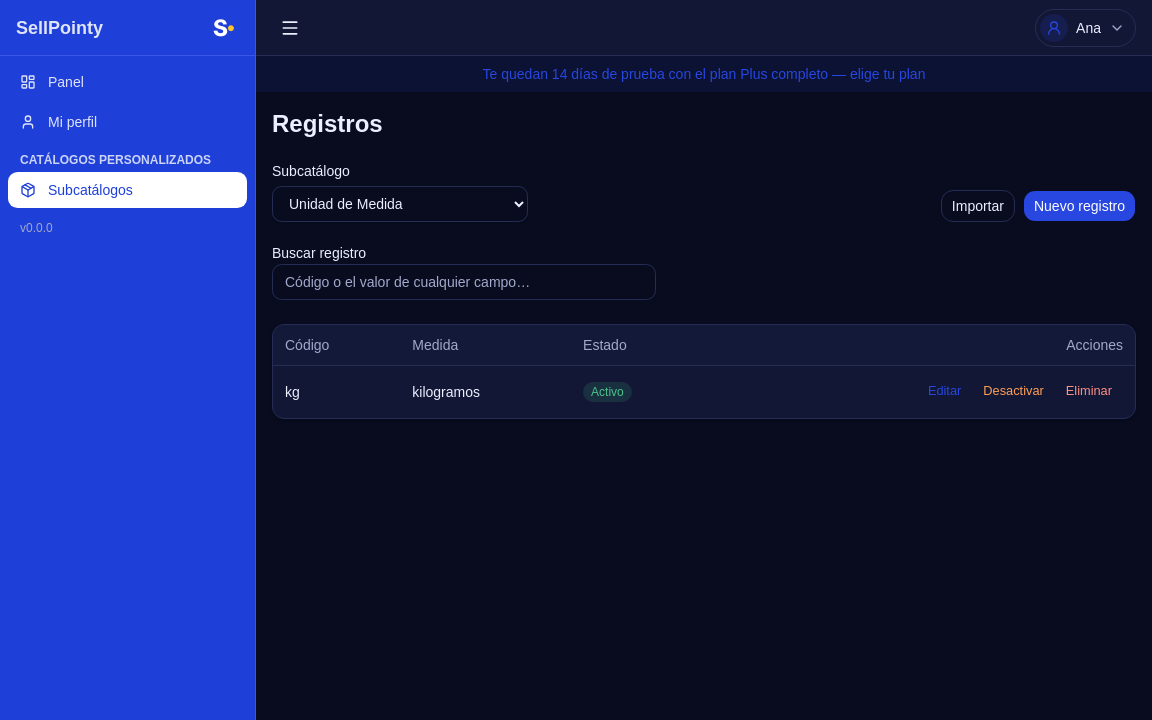
Scenario: Eliminar un registro (2026-08-25) › recién al confirmar se borra
Expected: the text "kg" is shown, [273, 365, 400, 418]
Click the button "Eliminar": (1089, 392) [1055, 378, 1123, 406]
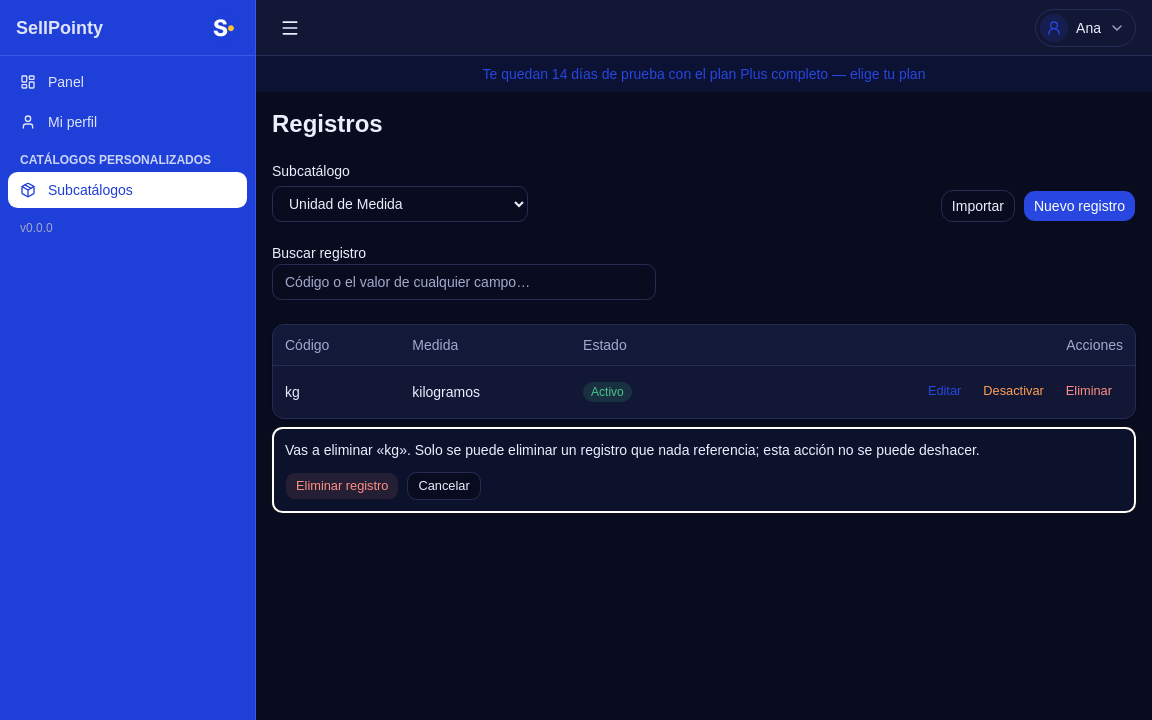
Click the button "Eliminar registro": (342, 486) [285, 472, 400, 500]
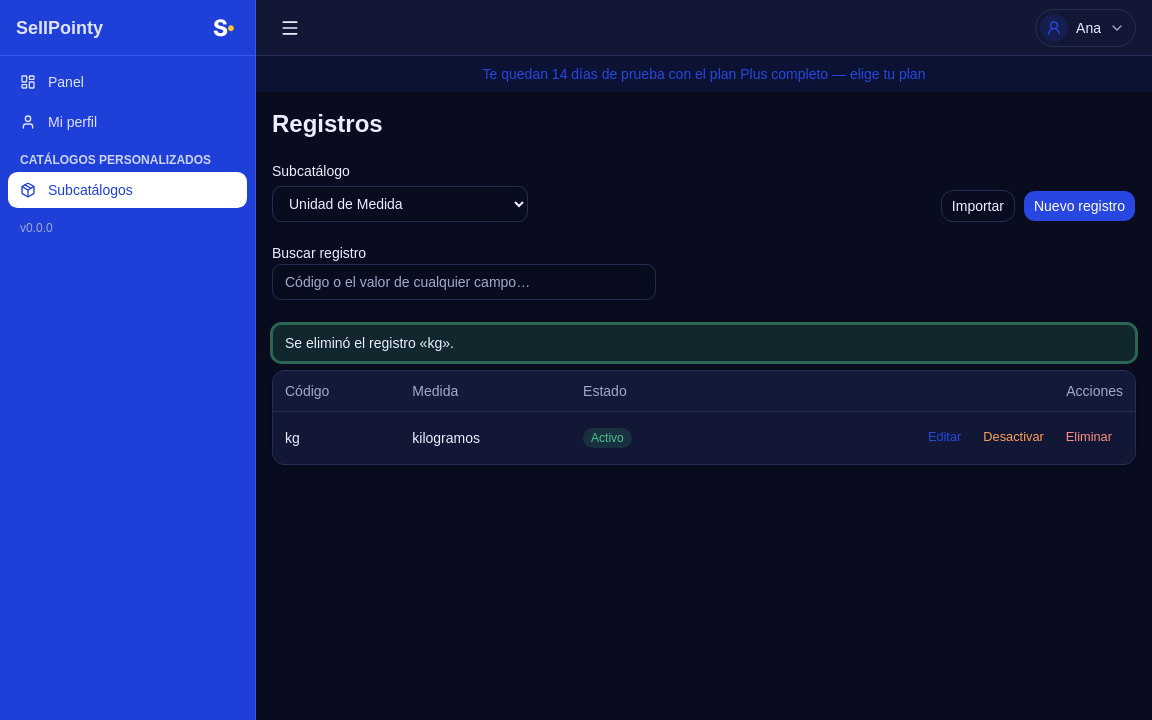
Expected: the message with test id "record-deleted" reads "Se eliminó el registro «kg».", [285, 335, 454, 351]
